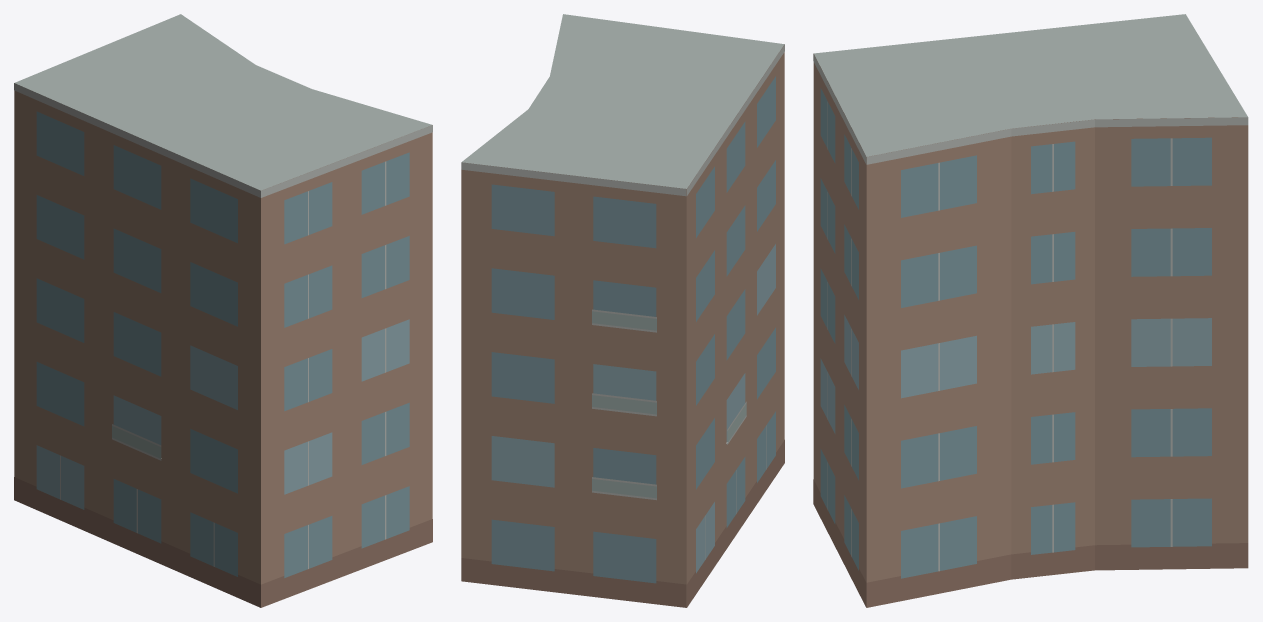
File: survey-upis-32459820.glb
The picture shows the model from 3 angles, left to right: view 1: azimuth 30°, elevation 25°; view 2: azimuth 150°, elevation 25°; view 3: azimuth 270°, elevation 25°; orthographic projection. The views are drawn at different scales.
Visible parts, largest first — view 1: survey-upis-32459820.tmp; view 2: survey-upis-32459820.tmp; view 3: survey-upis-32459820.tmp.
Boxes of the visible parts, left/top/right/bottom form: survey-upis-32459820.tmp: left=14, top=14, right=432, bottom=607; survey-upis-32459820.tmp: left=461, top=14, right=784, bottom=607; survey-upis-32459820.tmp: left=813, top=14, right=1248, bottom=607.
Size of the model in its own units: 9.39 by 13.8 by 12.07.
